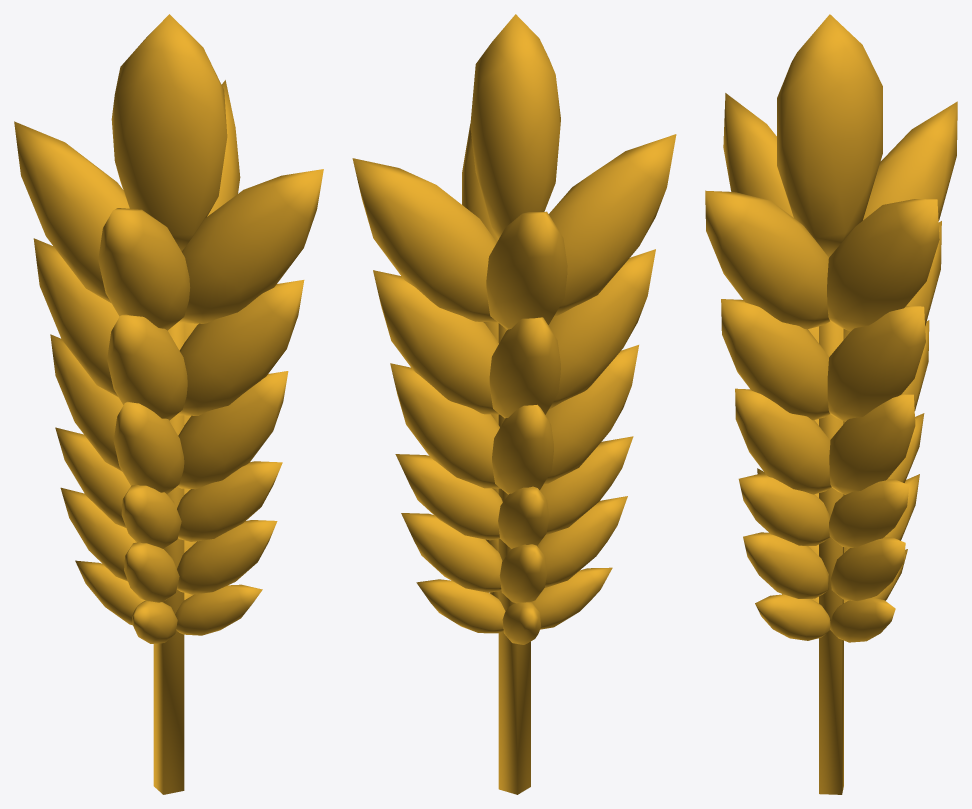
File: wheat.fbx
3 views of the same model, side by side, from view 1: azimuth 30°, elevation 25°; view 2: azimuth 150°, elevation 25°; view 3: azimuth 270°, elevation 25° (orthographic).
Parts seen in each view (by area): view 1: Wheat, Wheat .004; view 2: Wheat, Wheat .004; view 3: Wheat, Wheat .004.
Part boxes in pixels (x1,y1,x2,y2): Wheat: (14,14,323,794); Wheat .004: (55,427,282,643); Wheat: (352,14,676,794); Wheat .004: (395,436,633,644); Wheat: (705,14,957,794); Wheat .004: (738,413,924,642).
Bounding box in the file's own units: 6.39 × 21.64 × 6.39.
